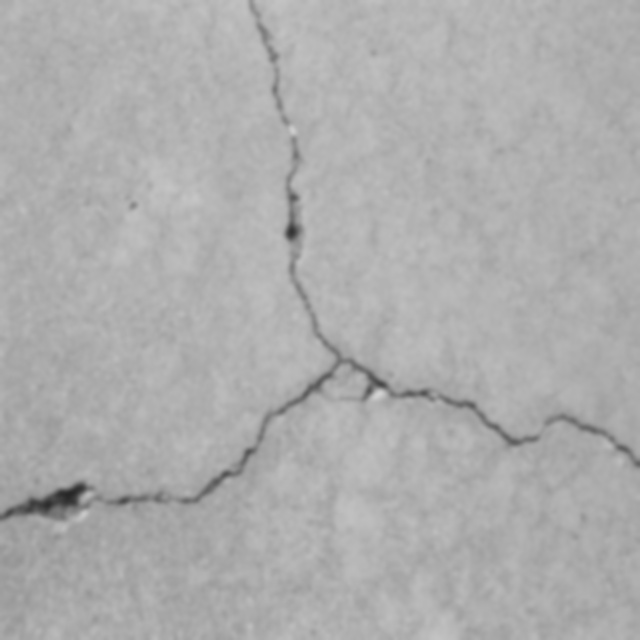SurfaceCrack: (199, 0, 358, 398)
